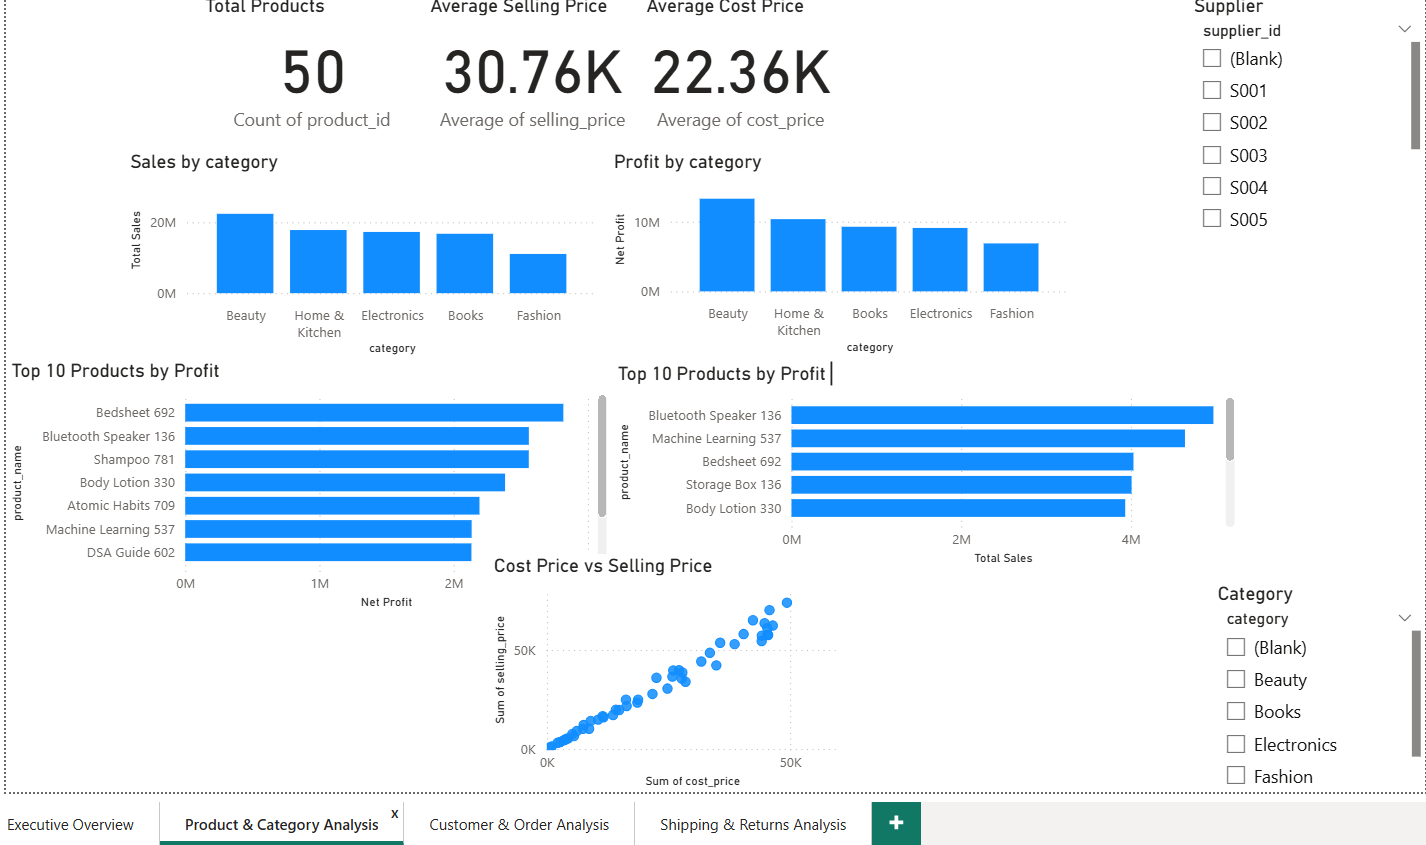

Layout of this report page (visuals, bound fields, positions):
{"tool":"powerbi","page":{"name":"Product & Category Analysis","canvas":[1280,720],"ordinal":1},"visuals":[{"type":"card","title":"Total Products","fields":{"Values":["Count(products.product_id)"]},"box":[175.3,0,202.8,129.8],"z":0},{"type":"card","title":"Average Selling Price","fields":{"Values":["Avg(products.selling_price)"]},"box":[378.1,0,194.7,129.8],"z":1},{"type":"card","title":"Average Cost Price","fields":{"Values":["Avg(products.cost_price)"]},"box":[572.8,0,180.1,129.8],"z":2},{"type":"clusteredColumnChart","title":"Sales by category","fields":{"Category":["products.category"],"Y":["orders.Total Sales"]},"box":[107.1,141.2,431.6,189.9],"z":3},{"type":"clusteredColumnChart","title":"Profit by category","fields":{"Category":["products.category"],"Y":["orders.Net Profit"]},"box":[543.6,141.2,420.3,188.2],"z":4},{"type":"barChart","title":"Top 10 Products by Profit│","fields":{"Category":["products.product_name"],"Y":["orders.Total Sales"]},"box":[546.9,331,566.3,188.2],"z":5},{"type":"barChart","title":"Top 10 Products by Profit","fields":{"Category":["products.product_name"],"Y":["orders.Net Profit"]},"box":[0,329.4,546.9,230.4],"z":6},{"type":"scatterChart","title":"Cost Price vs Selling Price","fields":{"Category":["products.product_name"],"X":["Sum(products.cost_price)"],"Y":["Sum(products.selling_price)"]},"box":[434.9,504.7,331,215.8],"z":7},{"type":"slicer","title":"Category","fields":{"Values":["products.category"]},"box":[1087.7,530.9,192.7,189.4],"z":8},{"type":"slicer","title":"Supplier","fields":{"Values":["suppliers.supplier_id"]},"box":[1066.3,0,214.2,224.3],"z":9}]}

Visuals, with their boxes on the page's 1280x720 design canvas (x1, y1, x2, y2). These are canvas units, not pixel positions in the 1426x845 screenshot, which may show the page scaled, cropped or inside an application window:
"Total Products" card: select_region(175, 0, 378, 130)
"Average Selling Price" card: select_region(378, 0, 573, 130)
"Average Cost Price" card: select_region(573, 0, 753, 130)
"Sales by category" clusteredColumnChart: select_region(107, 141, 539, 331)
"Profit by category" clusteredColumnChart: select_region(544, 141, 964, 329)
"Top 10 Products by Profit│" barChart: select_region(547, 331, 1113, 519)
"Top 10 Products by Profit" barChart: select_region(0, 329, 547, 560)
"Cost Price vs Selling Price" scatterChart: select_region(435, 505, 766, 720)
"Category" slicer: select_region(1088, 531, 1280, 720)
"Supplier" slicer: select_region(1066, 0, 1280, 224)
